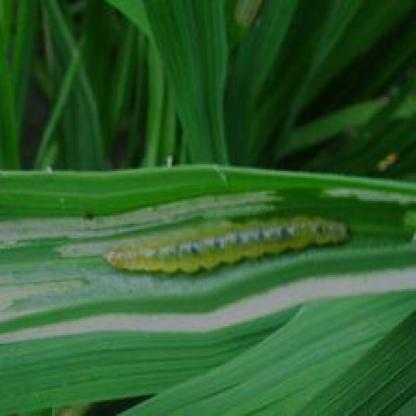leaf-folder: (100, 210, 358, 274)
